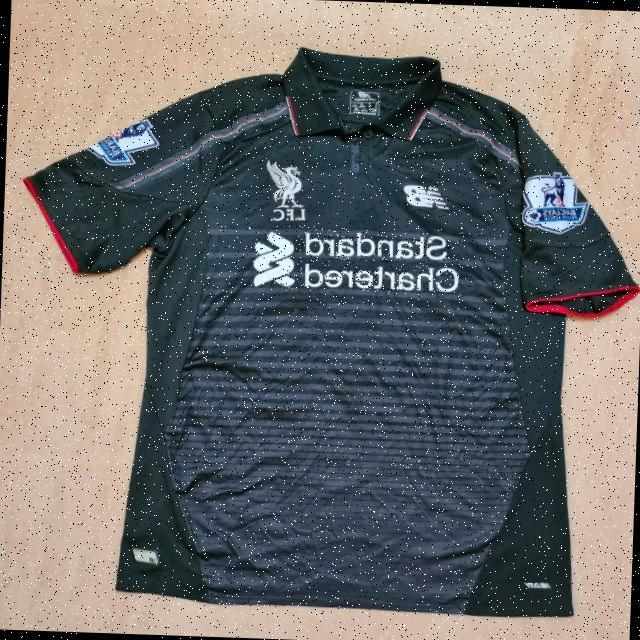Standard Chartered: (254, 224, 462, 295)
